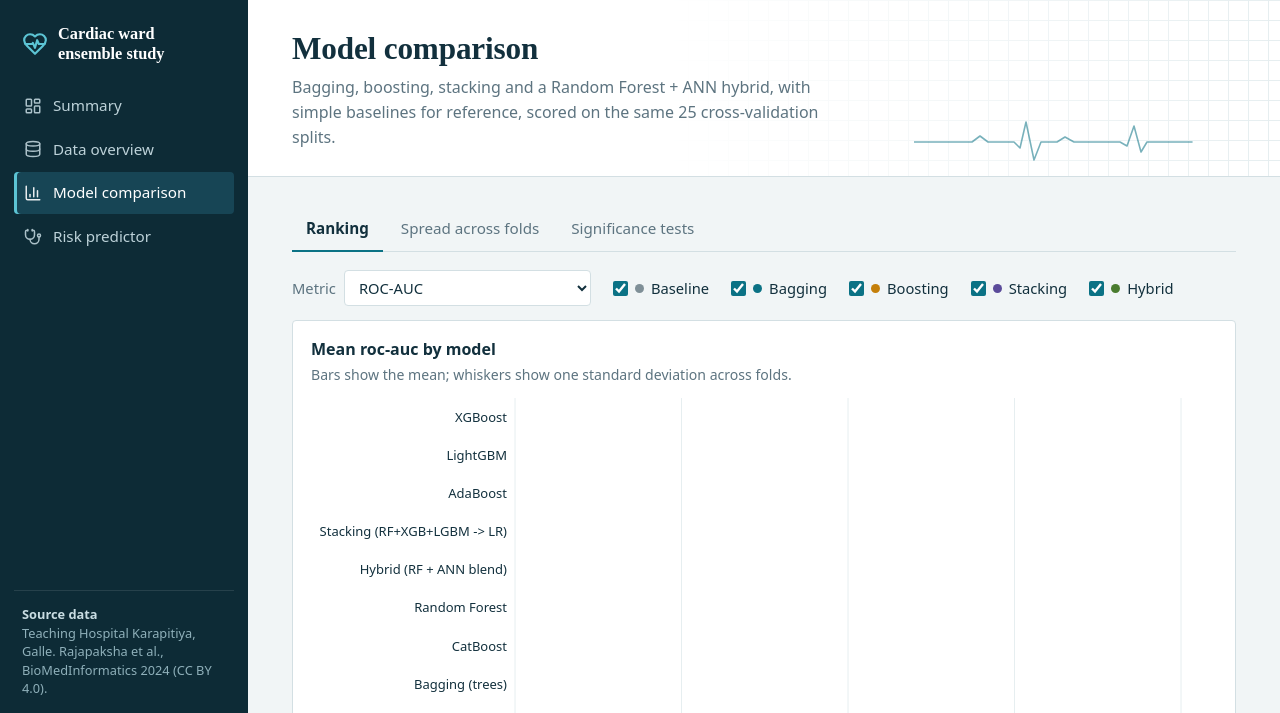
Test case: significance tab can switch the reference model to the hybrid
Click the tab "Significance tests": (633, 230) [557,207,708,252]
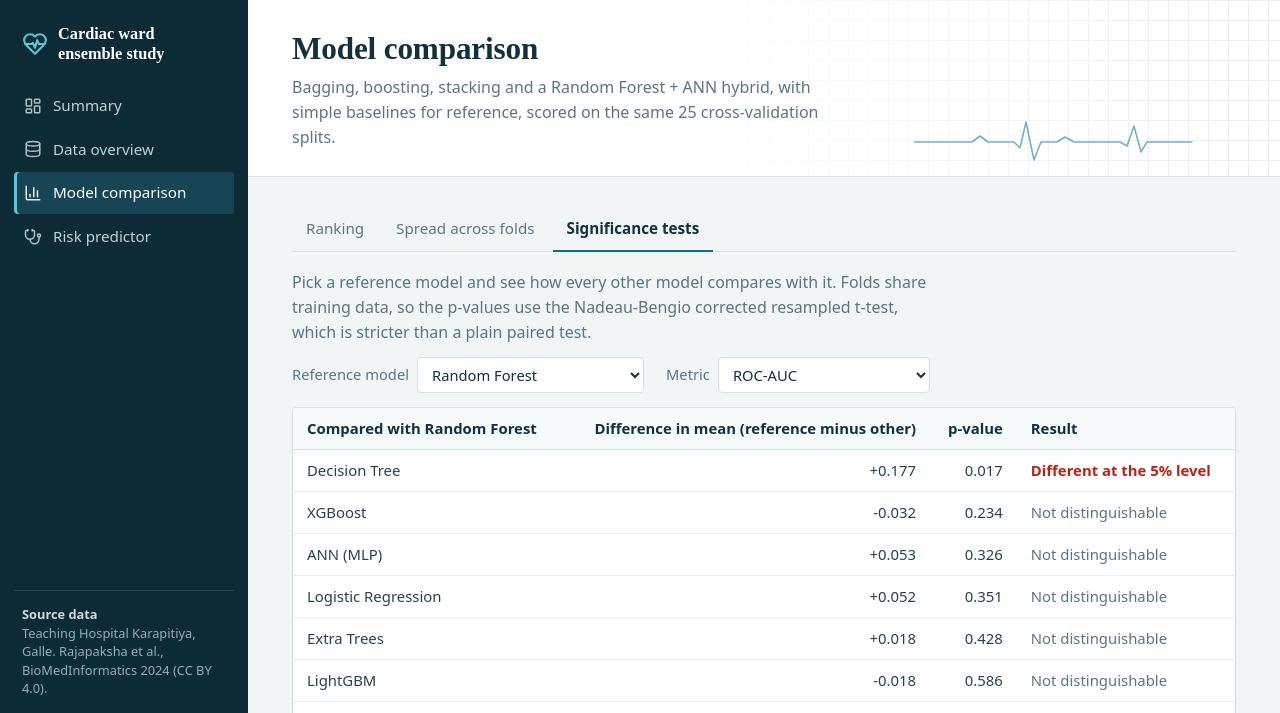
Check: the column heading "Compared with Random Forest" is shown, box [293,408,563,449]
Select "Hybrid (RF + ANN blend)" in the dropdown labelled "Reference model": (530, 375) [417,357,644,393]
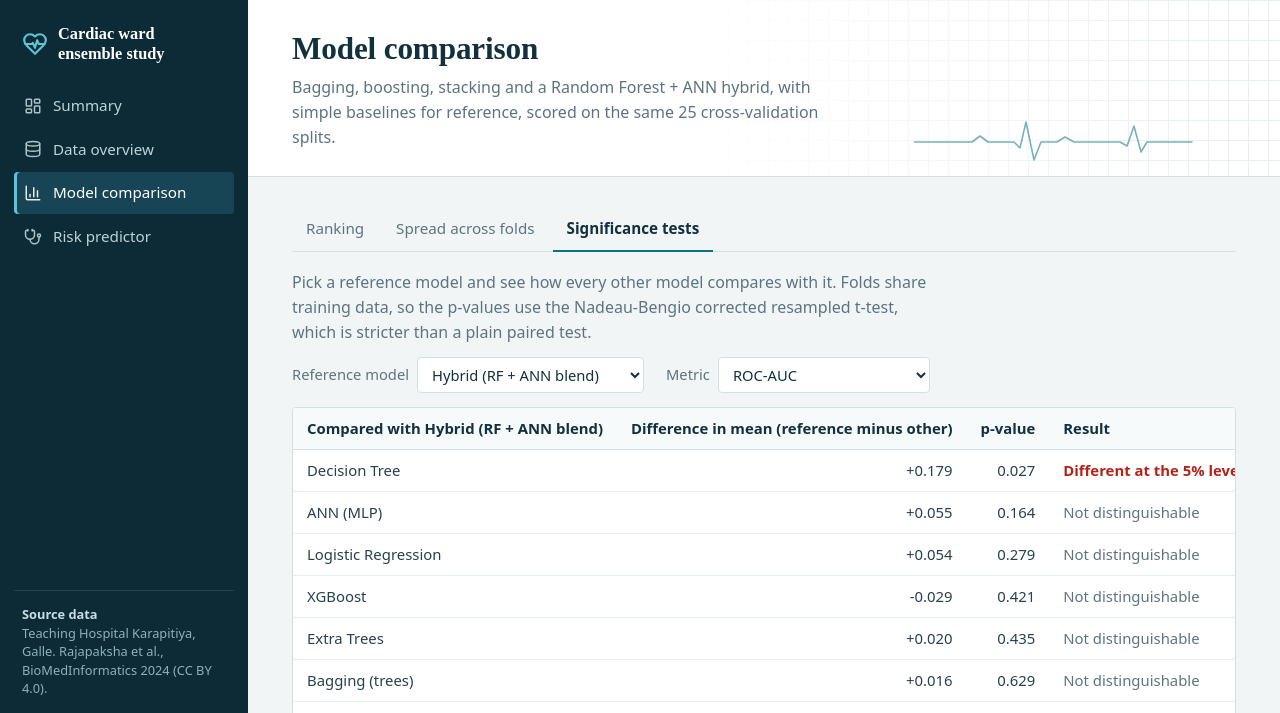
Check: the text "ANN (MLP)" is shown, box [293,491,617,533]
Check: the column heading "Compared with Hybrid (RF + ANN blend)" is shown, box [293,408,617,449]
